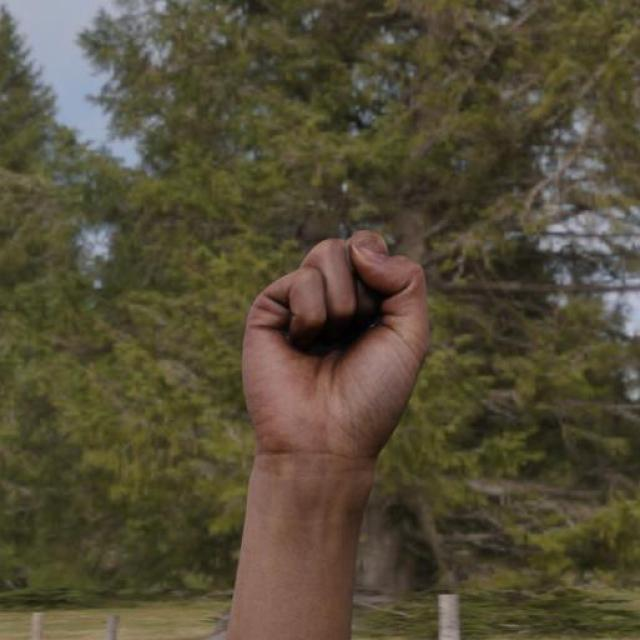S: (234, 228, 433, 467)
